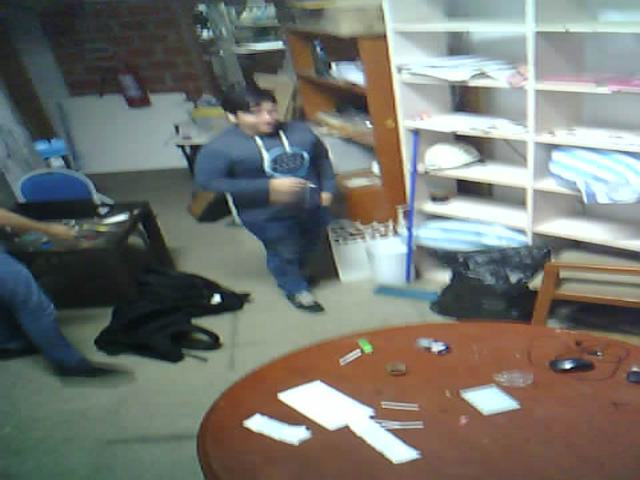person: (187, 64, 350, 327), (0, 137, 140, 403)
